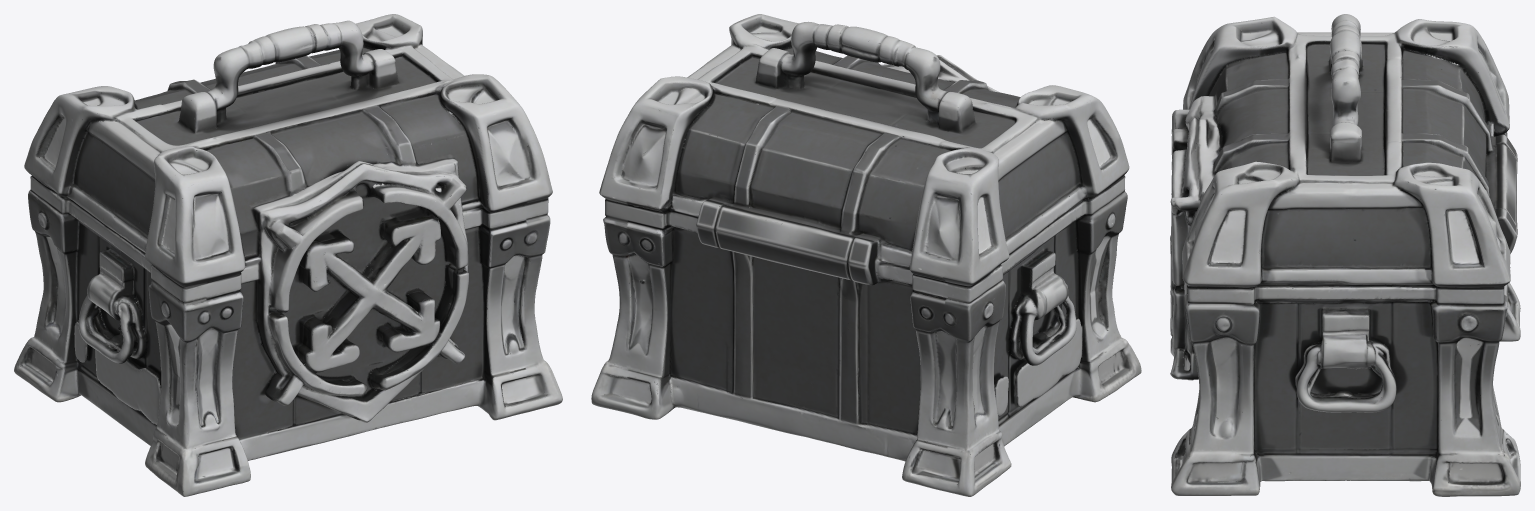
Rendered from Baul3d.glb.
3 renders of one model, left to right at view 1: azimuth 30°, elevation 25°; view 2: azimuth 150°, elevation 25°; view 3: azimuth 270°, elevation 25°, orthographic.
Size of the model in its own units: 2 by 1.8 by 1.56.
Materials: 1 (1 with a texture image).
